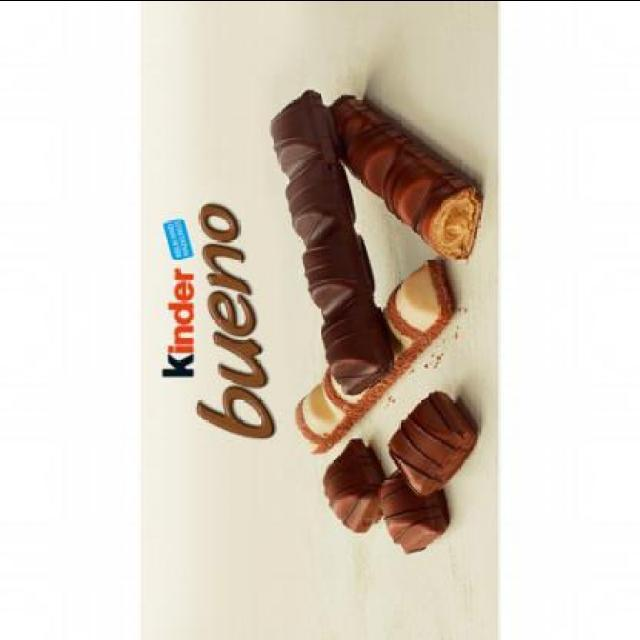Chocolate bar packaged: (271, 84, 395, 396), (294, 256, 460, 454), (321, 93, 485, 264), (385, 384, 473, 494), (318, 438, 382, 534), (380, 466, 446, 556)
